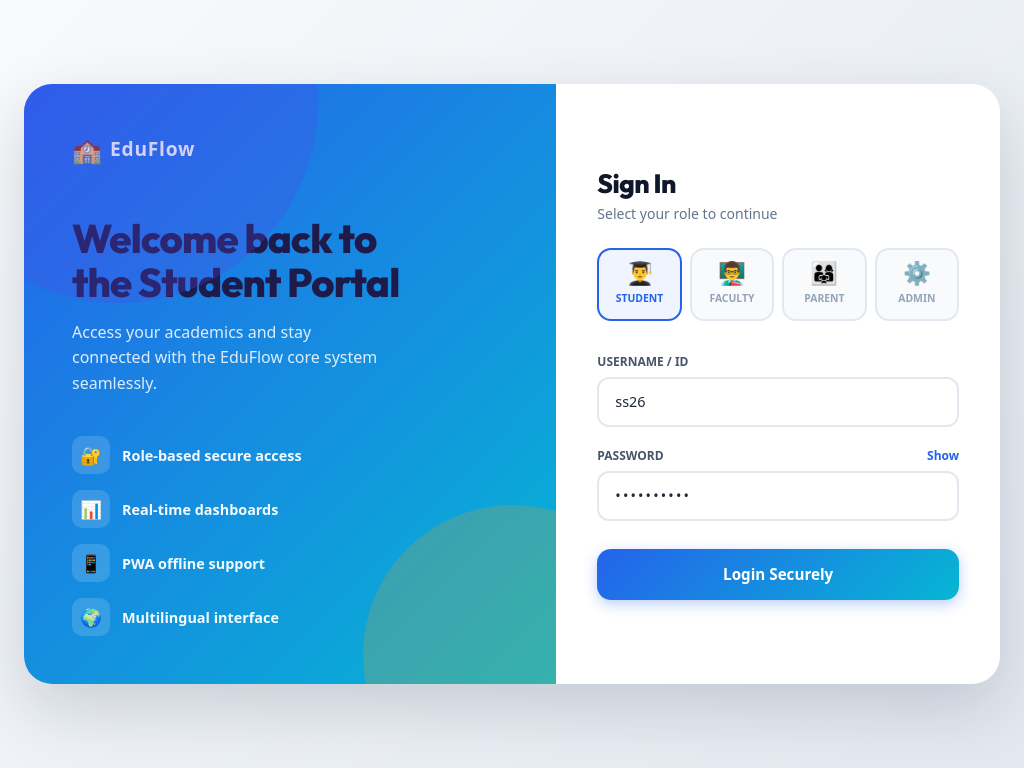
it: LoginPage › loads the parent demo credentials
The image size is (1024, 768).
Click the button "👨‍👩‍👧 Parent" at coordinates (824, 285), box [782,248,867,321]
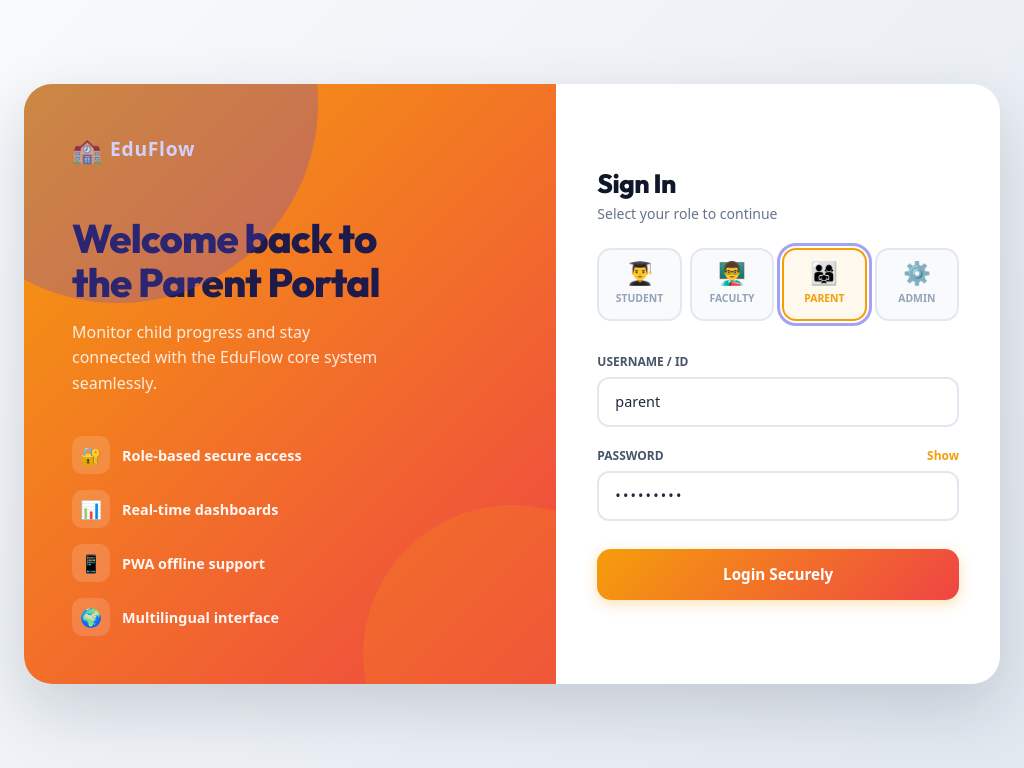
Expected: the text "Username / ID" is shown, [597,353,688,370]
Expected: the field showing "parent" is shown, [597,377,959,427]
